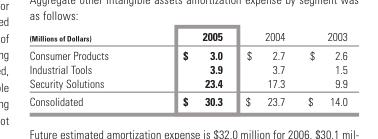table: (28, 29, 346, 107)
table column: (28, 29, 144, 107), (144, 29, 233, 107), (233, 29, 295, 107), (295, 29, 346, 107)
table column header: (28, 29, 346, 45)
table row: (28, 29, 346, 45), (28, 45, 346, 61), (28, 75, 346, 91), (28, 91, 346, 107), (28, 61, 346, 75)
